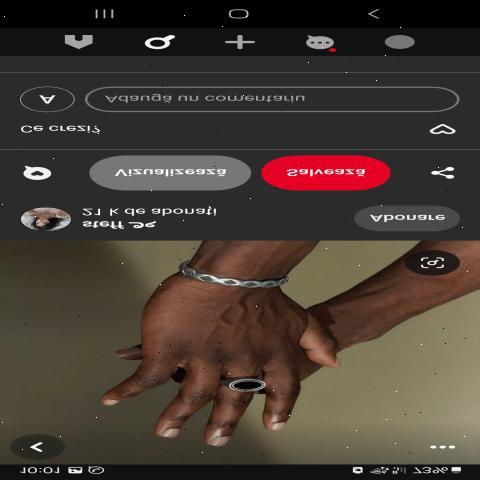Hands: (89, 258, 358, 467)
